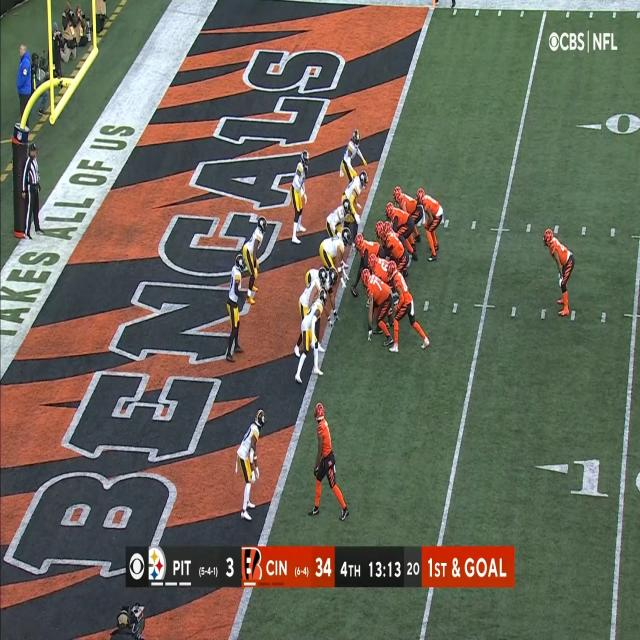football: (351, 284, 358, 300)
players: (311, 401, 351, 525), (387, 260, 432, 353), (294, 290, 335, 388), (238, 406, 268, 518), (224, 255, 252, 363), (360, 269, 398, 346), (544, 229, 575, 318), (243, 216, 271, 304), (411, 187, 442, 264), (294, 268, 327, 336), (287, 148, 310, 244), (306, 267, 340, 329), (15, 44, 37, 130), (342, 127, 369, 192), (394, 185, 421, 250), (386, 202, 416, 259), (354, 229, 381, 292), (380, 225, 412, 277), (368, 252, 397, 300), (321, 234, 351, 278), (376, 222, 406, 266), (346, 168, 372, 218), (324, 200, 354, 243)
